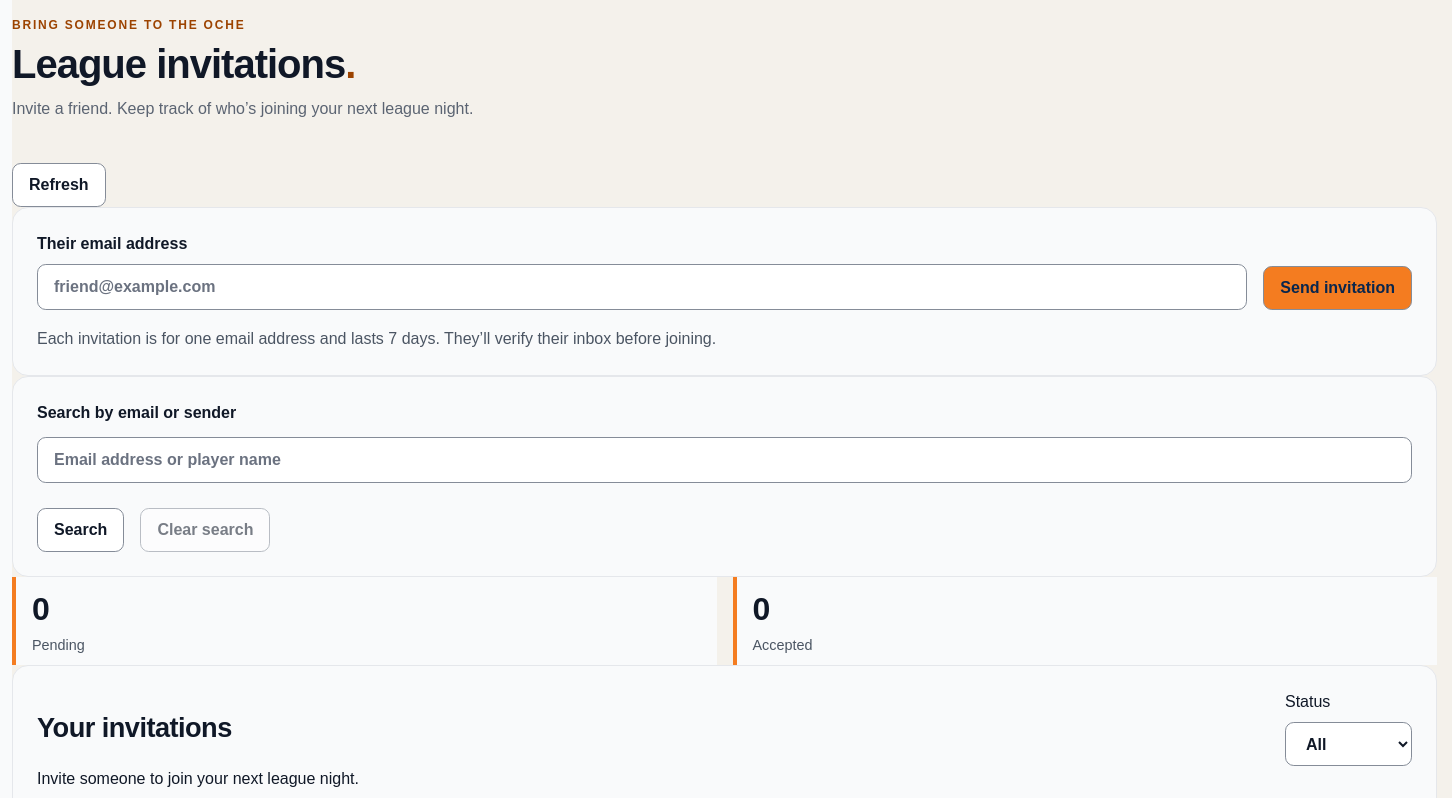
Scenario: retries an uncertain send with the original UUID and payload
The width and height of the screenshot is (1452, 798).
expect the text "Invite someone to join your next league night." is shown: met, box [37,770,359,787]
Type "synthetic@example.test" into the field labelled "Their email address" at [642, 287], box [37,264,1247,310]
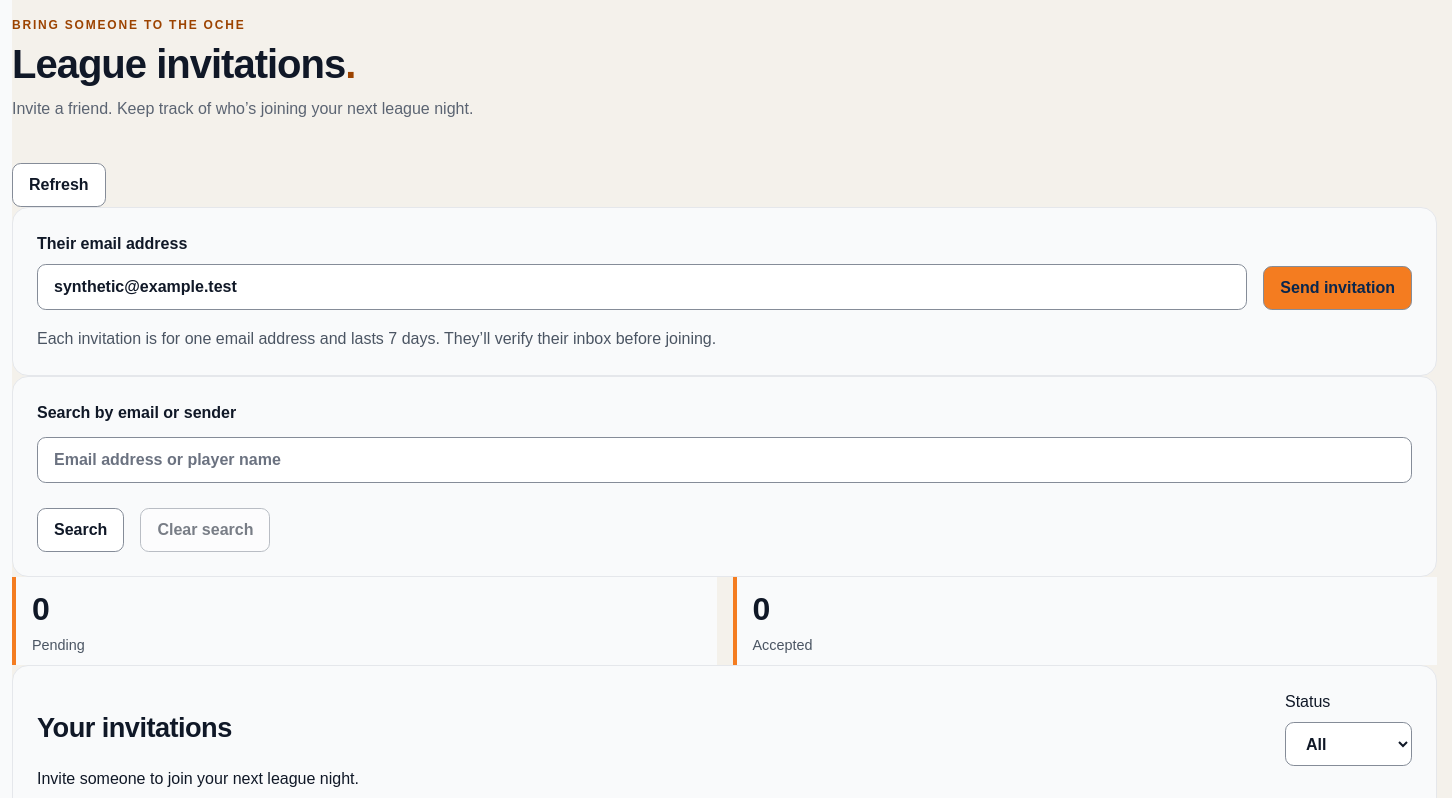
Click the button "Send invitation" at [1338, 288], box [1263,266,1412,310]
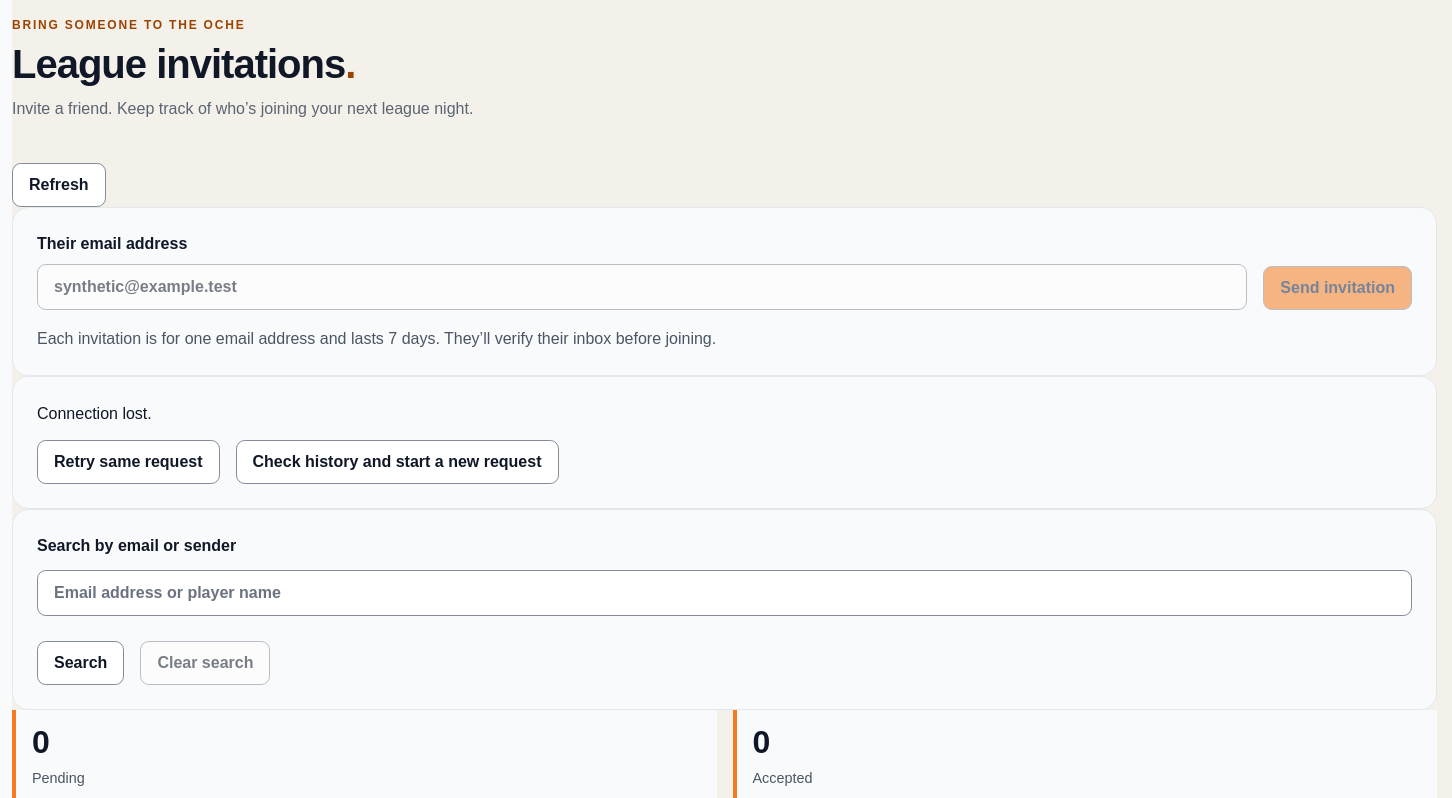
expect the text "Connection lost." is shown: met, box [37,405,152,422]
expect the field labelled "Their email address" is disabled: met, box [37,264,1247,310]
Click the button "Retry same request" at [128, 462], box [37,440,220,484]
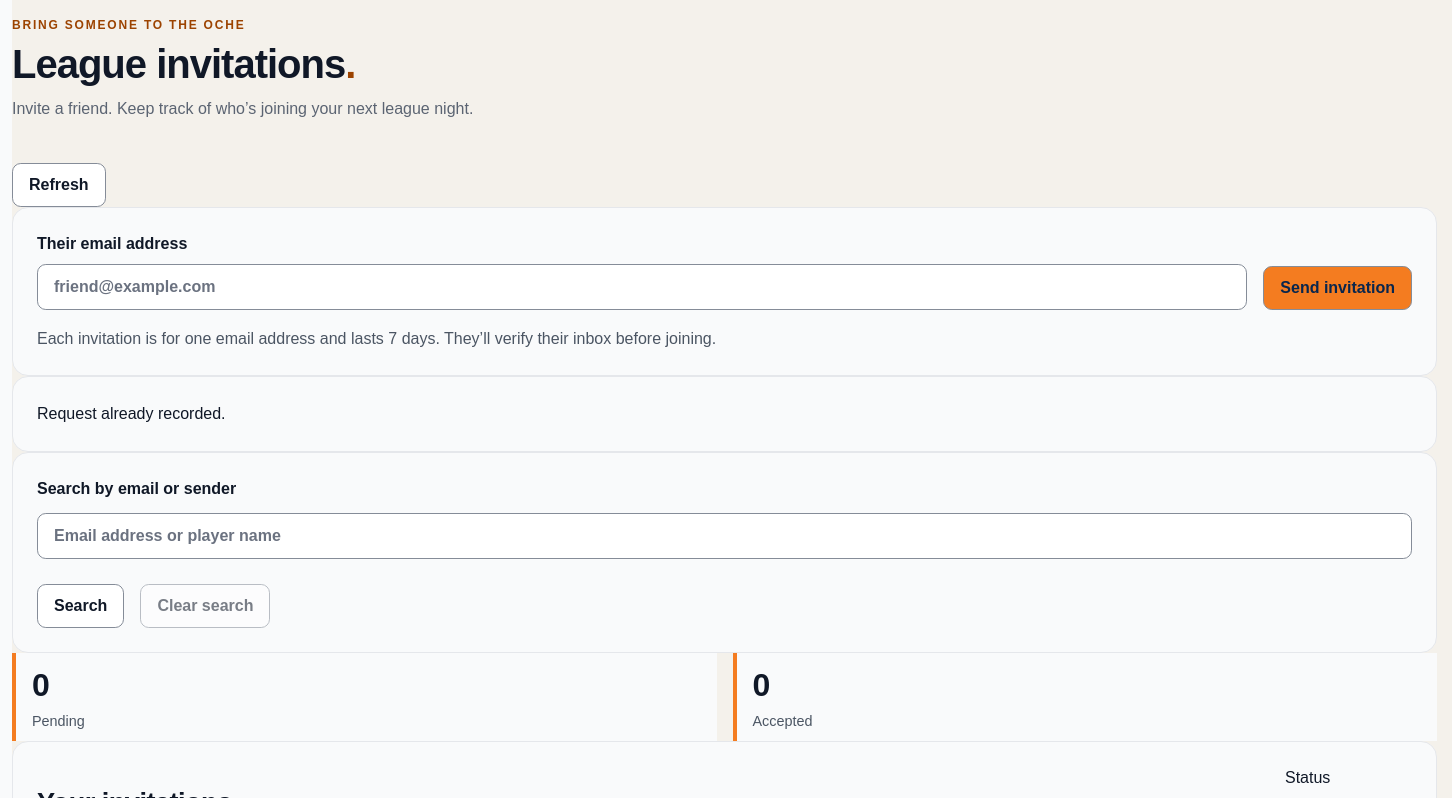
expect the text "Request already recorded." is shown: met, box [37,405,226,422]
